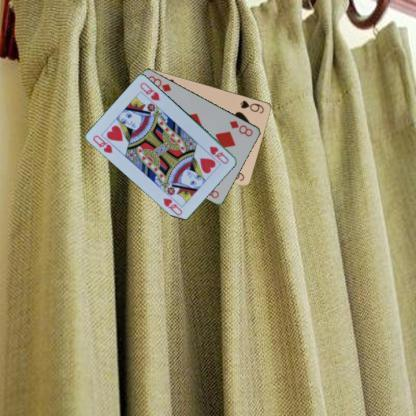6s: (238, 97, 265, 114)
8d: (227, 118, 254, 137)
Qh: (207, 144, 230, 166), (91, 132, 114, 154)
